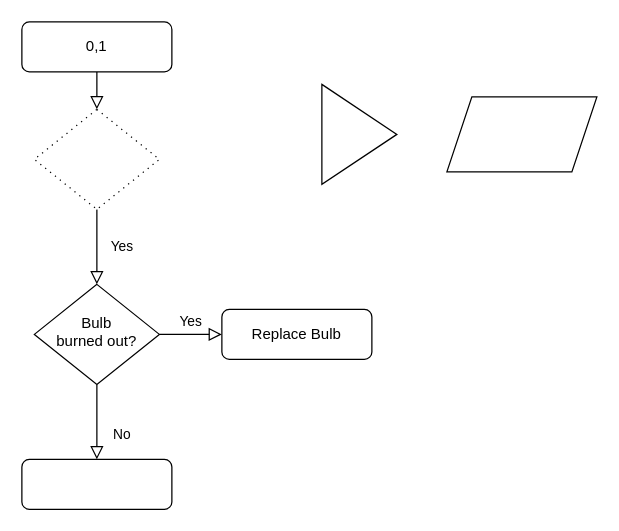
The diagram is 619 pixels wide and 531 high, and some of its shapes have lost their labels. Here are the shapes that lost their labels. From the top down, the box of each, then its label:
(33, 108, 159, 209): iterate
(21, 458, 172, 509): print it
